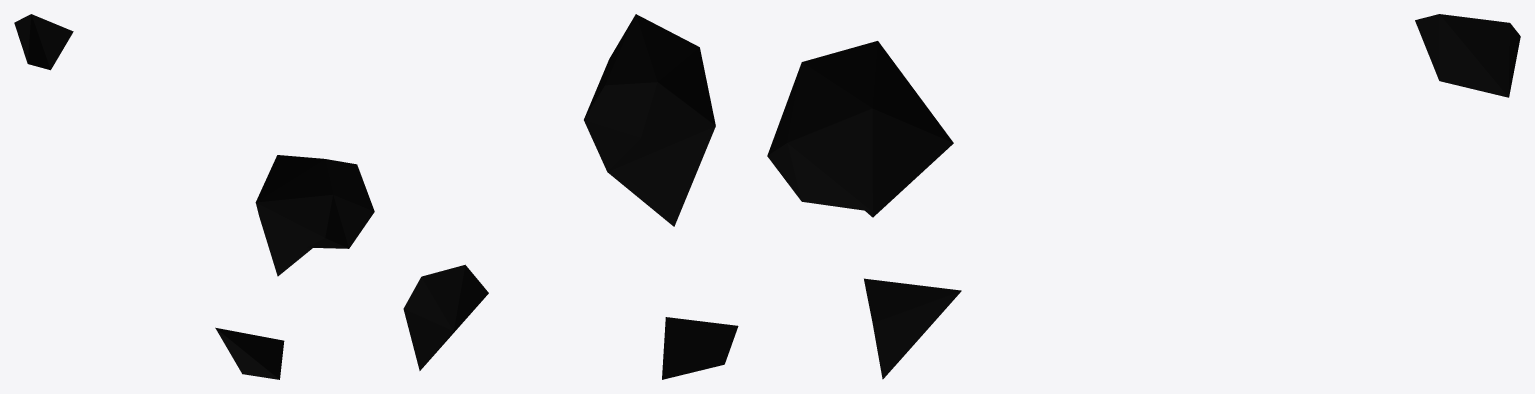
3 renders of one model, left to right at view 1: azimuth 30°, elevation 25°; view 2: azimuth 150°, elevation 25°; view 3: azimuth 270°, elevation 25°, orthographic. The views are drawn at different scales.
Bounding box in the file's own units: 0.4982 × 0.8104 × 1.65.
1 material, 1 textured.
